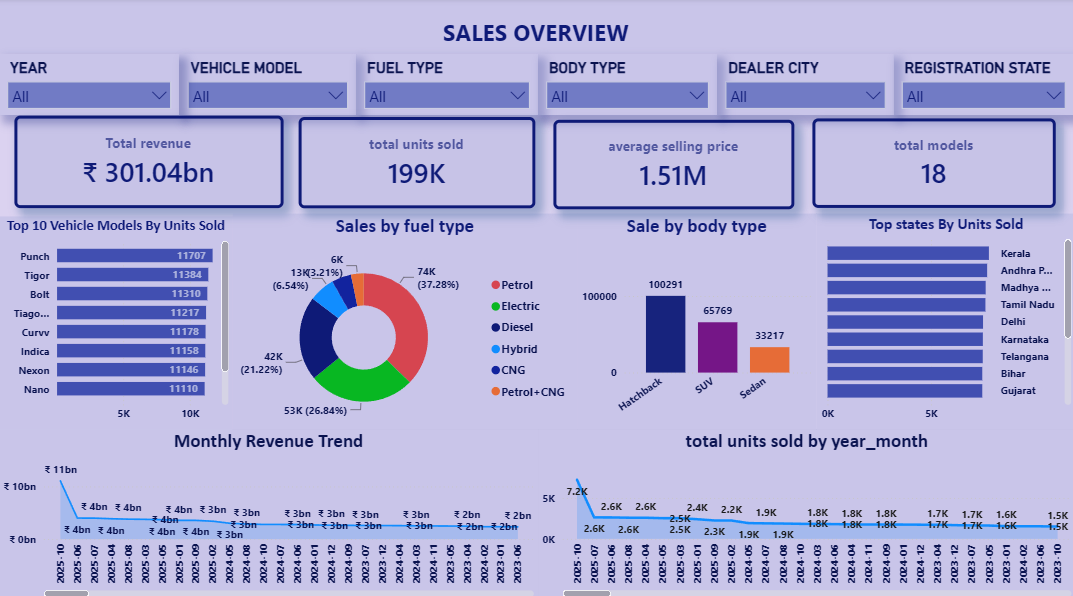

The page's visual inventory and layout, read from the dashboard file:
{"tool":"powerbi","page":{"name":"sale overview","canvas":[1280,720],"ordinal":0},"visuals":[{"type":"cardVisual","fields":{"Data":["date_table.Total revenue"]},"box":[10,139.8,319.5,109.8],"z":0},{"type":"lineChart","title":"Monthly Revenue Trend","fields":{"Category":["date_table.year_month"],"Y":["date_table.Total revenue"]},"box":[0,512.5,640.6,204.7],"z":1000},{"type":"lineChart","title":"Monthly units sold  Trend","fields":{"Category":["date_table.year_month"],"Y":["date_table.total units sold"]},"box":[640.6,512.5,638.9,204.7],"z":2000},{"type":"barChart","title":"Top Models By Units Sold","fields":{"Y":["date_table.total units sold"],"Category":["sales_details.vehicle_model"]},"box":[0,260,320,251.7],"z":3000},{"type":"donutChart","title":"Sales by fuel type","fields":{"Y":["Sum(sales_details.sale_units)"],"Category":["vehicle_info.fuel_type"]},"box":[320,256.7,366.7,255],"z":4000},{"type":"columnChart","title":"Sales by body type","fields":{"Category":["vehicle_info.body_type"],"Y":["date_table.total units sold"]},"box":[687.2,256.2,284.5,256.2],"z":5000},{"type":"slicer","title":"year","fields":{"Values":["sales_details.vehicle_model"]},"box":[214.7,66.9,209.7,73.2],"z":6000},{"type":"slicer","title":"year","fields":{"Values":["vehicle_info.fuel_type"]},"box":[424.4,66.9,216.3,73.2],"z":7000},{"type":"slicer","title":"year","fields":{"Values":["vehicle_info.body_type"]},"box":[640.7,66.9,213,73.2],"z":8000},{"type":"slicer","title":"year","fields":{"Values":["sales_details.dealer_city"]},"box":[853.7,66.9,209.7,73.2],"z":9000},{"type":"slicer","title":"year","fields":{"Values":["sales_details.reg_state"]},"box":[1063.3,66.9,214.6,73.2],"z":10000},{"type":"clusteredBarChart","title":"Top states By Units Sold","fields":{"Category":["sales_details.reg_state"],"Y":["date_table.total units sold"]},"box":[971.7,256.2,307.8,256.2],"z":11000},{"type":"cardVisual","fields":{"Data":["date_table.average selling price"]},"box":[665.6,144.8,286.2,106.5],"z":12000},{"type":"cardVisual","fields":{"Data":["date_table.total units sold"]},"box":[352.7,141.4,282.9,108.2],"z":13000},{"type":"cardVisual","fields":{"Data":["date_table.total models"]},"box":[980,143.1,289.5,106.5],"z":14000},{"type":"textbox","box":[0,0,1276.7,66.7],"z":15000},{"type":"slicer","title":"year","fields":{"Values":["date_table.year"]},"box":[0.1,66.9,214.6,73.2],"z":16000}]}

Visuals, with their boxes in screenshot pixels (x1, y1, x2, y2), scaled from the page's 1280x720 canvas onto the 1073x596 screenshot:
cardVisual - date_table.Total revenue: BBox(8, 116, 276, 207)
"Monthly Revenue Trend" lineChart: BBox(0, 424, 537, 594)
"Monthly units sold  Trend" lineChart: BBox(537, 424, 1072, 594)
"Top Models By Units Sold" barChart: BBox(0, 215, 268, 424)
"Sales by fuel type" donutChart: BBox(268, 212, 576, 424)
"Sales by body type" columnChart: BBox(576, 212, 815, 424)
"year" slicer: BBox(180, 55, 356, 116)
"year" slicer: BBox(356, 55, 537, 116)
"year" slicer: BBox(537, 55, 716, 116)
"year" slicer: BBox(716, 55, 891, 116)
"year" slicer: BBox(891, 55, 1071, 116)
"Top states By Units Sold" clusteredBarChart: BBox(815, 212, 1072, 424)
cardVisual - date_table.average selling price: BBox(558, 120, 798, 208)
cardVisual - date_table.total units sold: BBox(296, 117, 533, 207)
cardVisual - date_table.total models: BBox(822, 118, 1064, 207)
textbox: BBox(0, 0, 1070, 55)
"year" slicer: BBox(0, 55, 180, 116)
